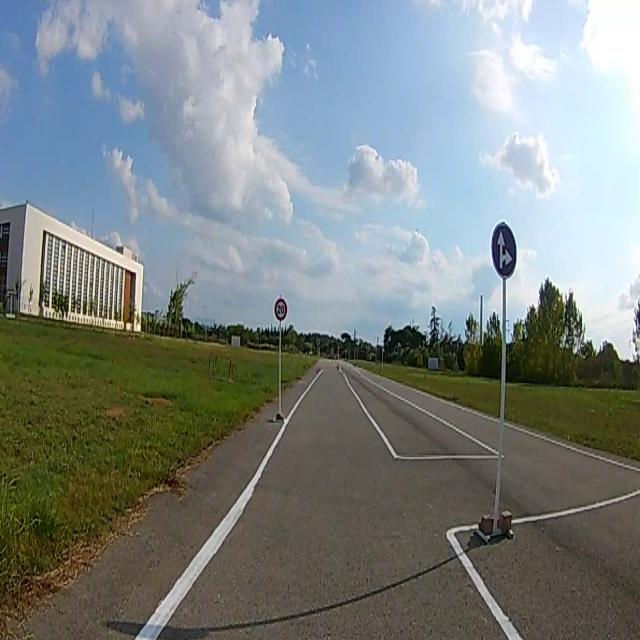20: (274, 299, 286, 321)
ilerisag: (491, 222, 517, 278)
